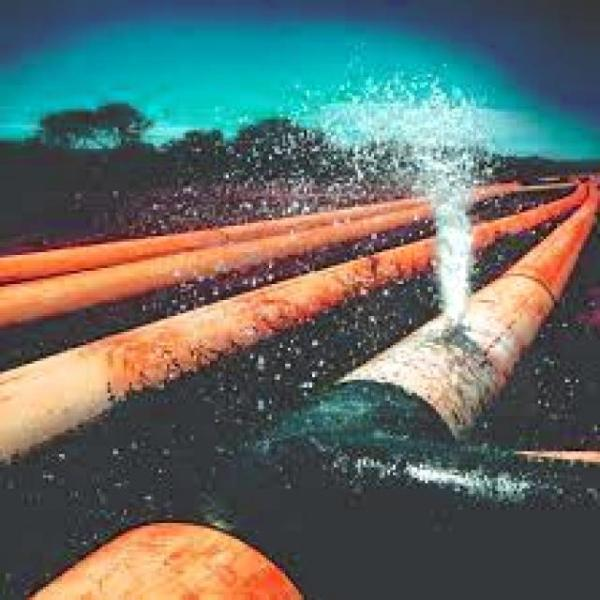pipe burst: (322, 86, 482, 350)
